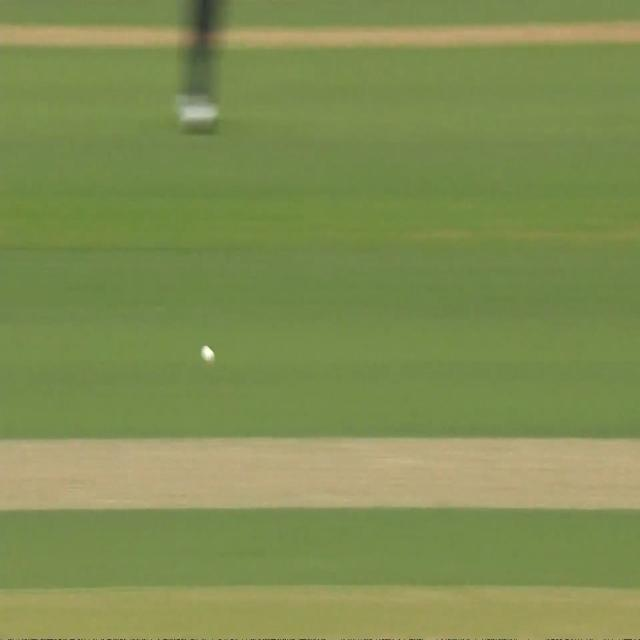ball: (190, 339, 228, 372)
